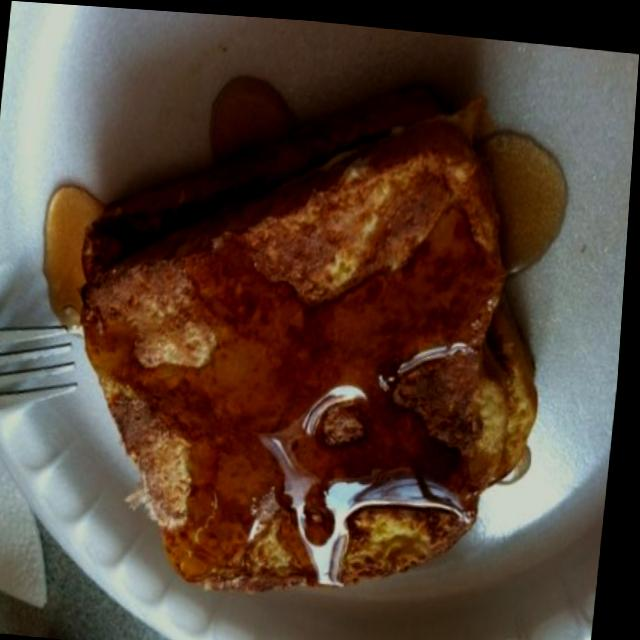面包点心: (9, 28, 621, 640)
